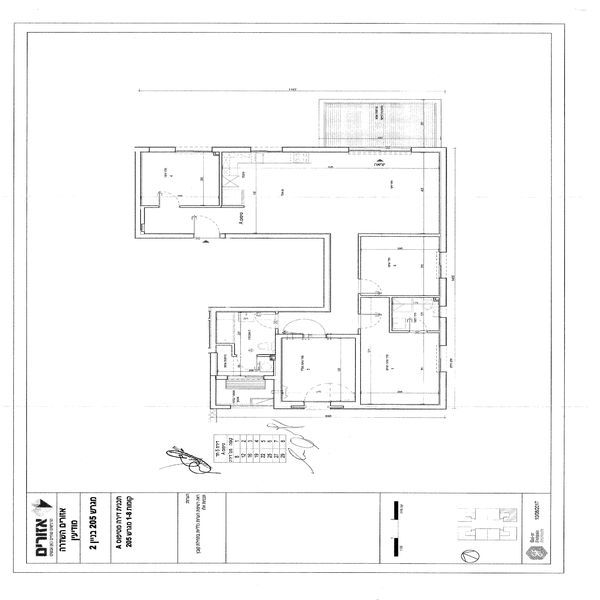door: (297, 377, 337, 414), (192, 214, 226, 244), (356, 313, 387, 336), (357, 277, 387, 299), (157, 188, 181, 205)
room: (213, 134, 451, 245), (123, 141, 233, 249), (353, 330, 450, 421), (267, 334, 363, 416), (350, 242, 451, 304)
wall: (130, 150, 146, 236), (226, 232, 329, 245), (209, 304, 333, 314), (270, 339, 286, 414), (321, 234, 337, 308), (207, 314, 220, 405), (436, 147, 447, 251), (353, 402, 447, 414), (356, 292, 442, 304), (359, 230, 444, 241), (283, 144, 347, 156), (123, 230, 196, 240), (353, 331, 362, 408), (434, 369, 449, 414), (217, 154, 227, 209), (354, 245, 369, 280), (184, 204, 246, 212), (437, 318, 452, 346), (215, 144, 250, 156), (388, 298, 399, 334), (436, 276, 449, 304), (326, 331, 354, 344)
window: (350, 143, 414, 157), (246, 142, 285, 155), (175, 145, 214, 157)
